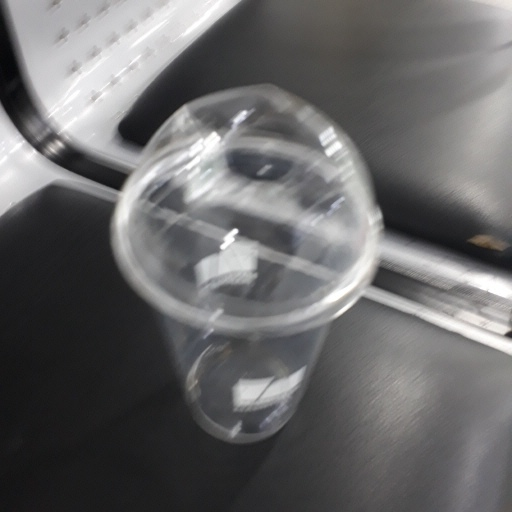Plastic_2: (113, 81, 385, 447)
